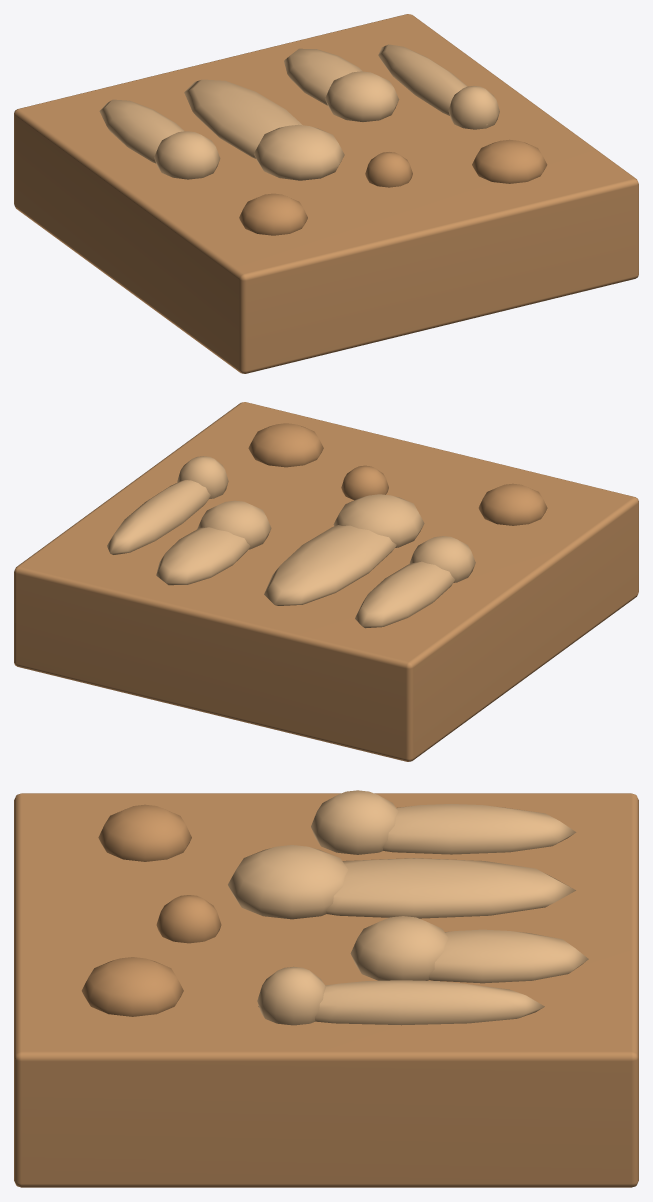
The model's file is Grease_Frozen.fbx.
The picture shows the model from 3 angles, top to bottom: view 1: azimuth 30°, elevation 25°; view 2: azimuth 150°, elevation 25°; view 3: azimuth 270°, elevation 25°; orthographic projection. The views are drawn at different scales.
Visible parts, largest first — view 1: Frozen_grease_full_cell, Frozen_flow_1, Frozen_drop_1, Frozen_flow_3, Frozen_drop_2, Frozen_flow_0, Frozen_bubble_2, Frozen_drop_0, Frozen_flow_2, Frozen_bubble_0, Frozen_drop_3, Frozen_bubble_1; view 2: Frozen_grease_full_cell, Frozen_flow_1, Frozen_flow_0, Frozen_flow_3, Frozen_flow_2, Frozen_drop_1, Frozen_bubble_2, Frozen_bubble_0, Frozen_drop_2, Frozen_drop_0, Frozen_drop_3, Frozen_bubble_1; view 3: Frozen_grease_full_cell, Frozen_flow_1, Frozen_flow_3, Frozen_flow_0, Frozen_drop_1, Frozen_flow_2, Frozen_drop_2, Frozen_bubble_2, Frozen_drop_0, Frozen_bubble_0, Frozen_drop_3, Frozen_bubble_1.
Part boxes in pixels (<box>): Frozen_grease_full_cell: <box>14,14,638,373</box>; Frozen_flow_1: <box>184,79,302,158</box>; Frozen_drop_1: <box>254,124,344,180</box>; Frozen_flow_3: <box>378,44,487,125</box>; Frozen_drop_2: <box>325,71,399,121</box>; Frozen_flow_0: <box>99,99,184,163</box>; Frozen_bubble_2: <box>472,139,547,183</box>; Frozen_drop_0: <box>154,131,220,179</box>; Frozen_flow_2: <box>284,48,362,105</box>; Frozen_bubble_0: <box>239,193,307,235</box>; Frozen_drop_3: <box>448,86,499,129</box>; Frozen_bubble_1: <box>365,152,412,187</box>; Frozen_grease_full_cell: <box>14,402,638,761</box>; Frozen_flow_1: <box>264,525,396,605</box>; Frozen_flow_0: <box>355,561,454,628</box>; Frozen_flow_3: <box>107,480,210,554</box>; Frozen_flow_2: <box>156,527,250,585</box>; Frozen_drop_1: <box>333,494,424,547</box>; Frozen_bubble_2: <box>248,423,323,467</box>; Frozen_bubble_0: <box>478,483,547,525</box>; Frozen_drop_2: <box>197,500,271,549</box>; Frozen_drop_0: <box>409,536,475,582</box>; Frozen_drop_3: <box>177,456,228,498</box>; Frozen_bubble_1: <box>341,465,388,500</box>; Frozen_grease_full_cell: <box>14,793,638,1187</box>; Frozen_flow_1: <box>326,858,575,918</box>; Frozen_flow_3: <box>258,980,544,1025</box>; Frozen_flow_0: <box>382,804,576,854</box>; Frozen_drop_1: <box>228,845,348,919</box>; Frozen_flow_2: <box>429,929,588,983</box>; Frozen_drop_2: <box>350,916,448,980</box>; Frozen_bubble_2: <box>81,957,183,1016</box>; Frozen_drop_0: <box>311,790,398,854</box>; Frozen_bubble_0: <box>98,804,191,861</box>; Frozen_drop_3: <box>257,966,325,1025</box>; Frozen_bubble_1: <box>156,895,221,943</box>.
Bounding box in the file's own units: 100 × 31.5 × 100.
